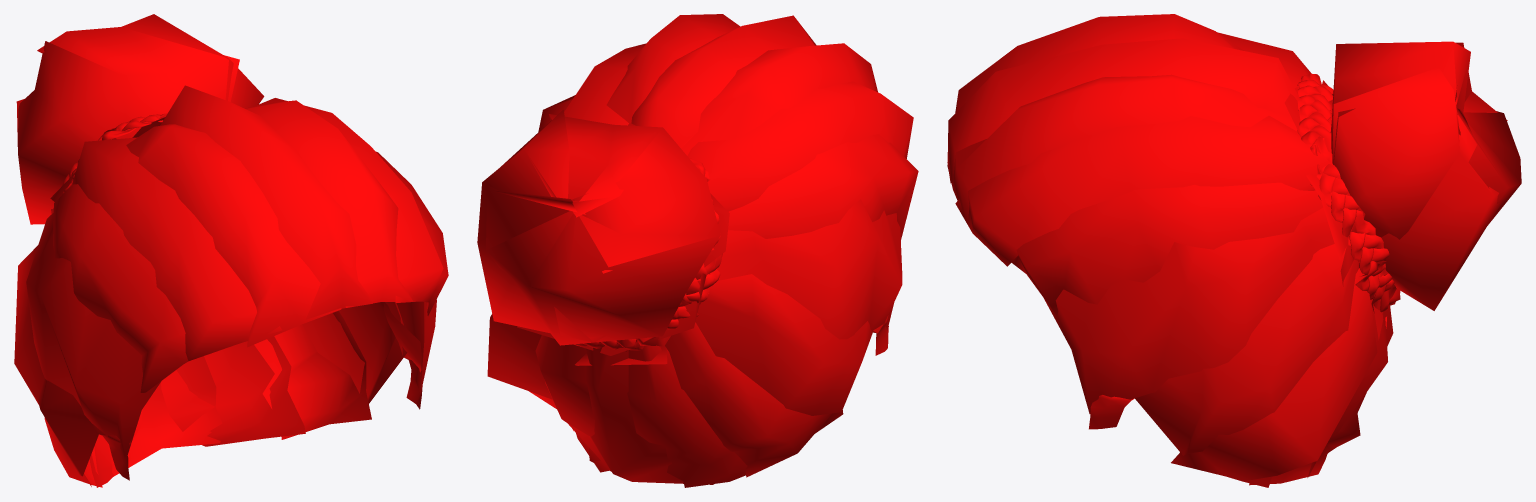
Rendered from grinsegold_wig_bun_blonde_braids_M.glb.
The picture shows the model from 3 angles, left to right: view 1: azimuth 30°, elevation 25°; view 2: azimuth 150°, elevation 25°; view 3: azimuth 270°, elevation 25°; orthographic projection. The views are drawn at different scales.
Bounding box in the file's own units: 0.1968 × 0.2042 × 0.2563.
1 material, 1 textured.
